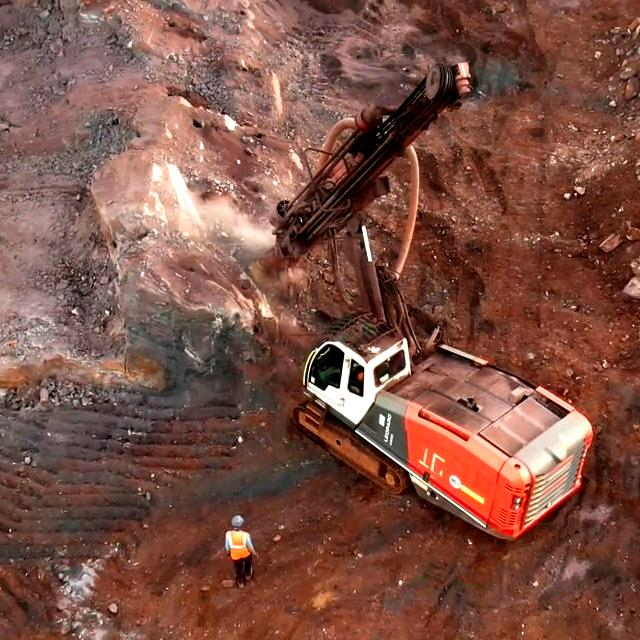Blast rig: (316, 331, 525, 500)
person: (222, 515, 257, 595)
